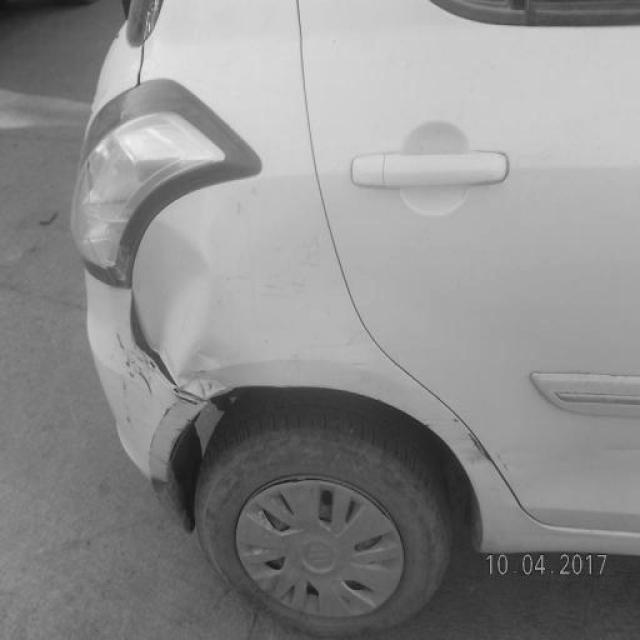dent: (134, 225, 217, 392), (448, 400, 503, 484)
scratch: (144, 382, 212, 486), (114, 330, 155, 402), (120, 379, 135, 435)
tear: (129, 286, 180, 393)
